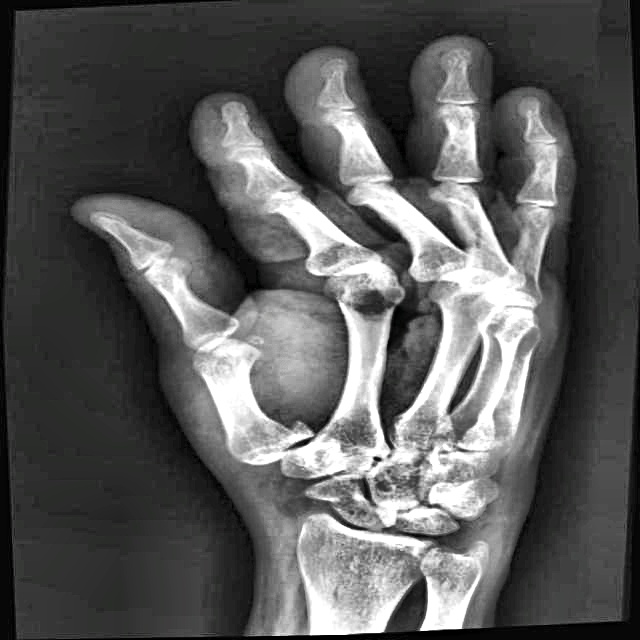Oblique Displaced: (431, 183, 514, 270)
